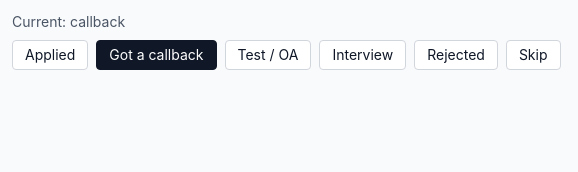
StatusForm › rolls back and shows an error when the server fails
This screenshot has width=578, height=172.
Click the button "Rejected".
click(456, 55)  # box [414, 40, 498, 70]
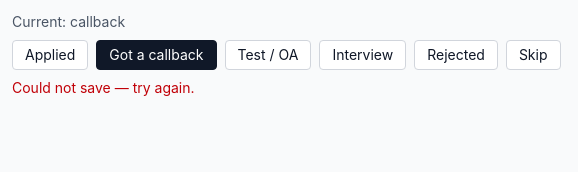
Expected: the text "Current: callback" is shown, [12, 13, 125, 30]
Now the message shows "Could not save", box [12, 79, 194, 96]
